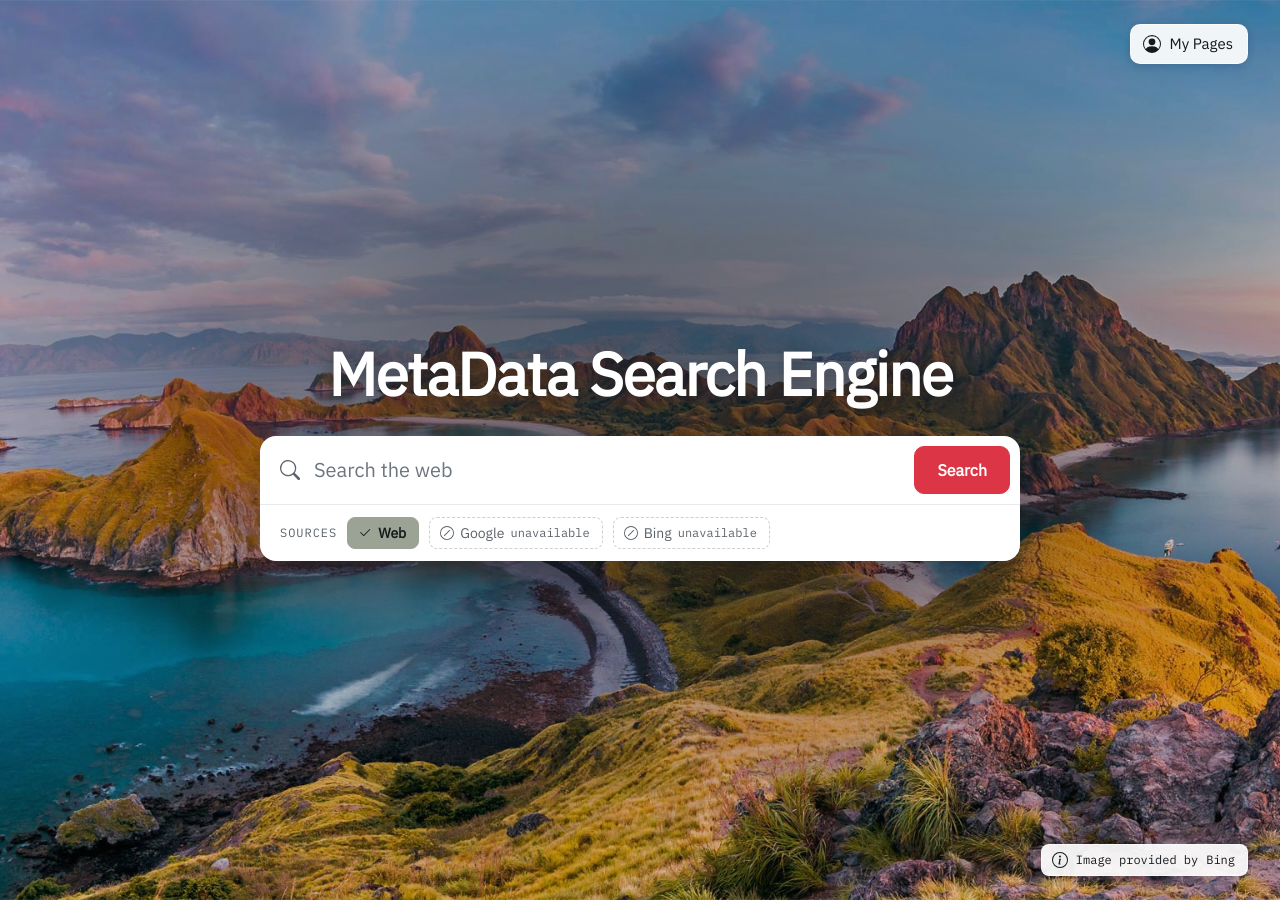
it: search › says when Tavily finds no pages
Type "zebra" into the field.
click(607, 470); type("zebra")  # box [314,446,900,494]
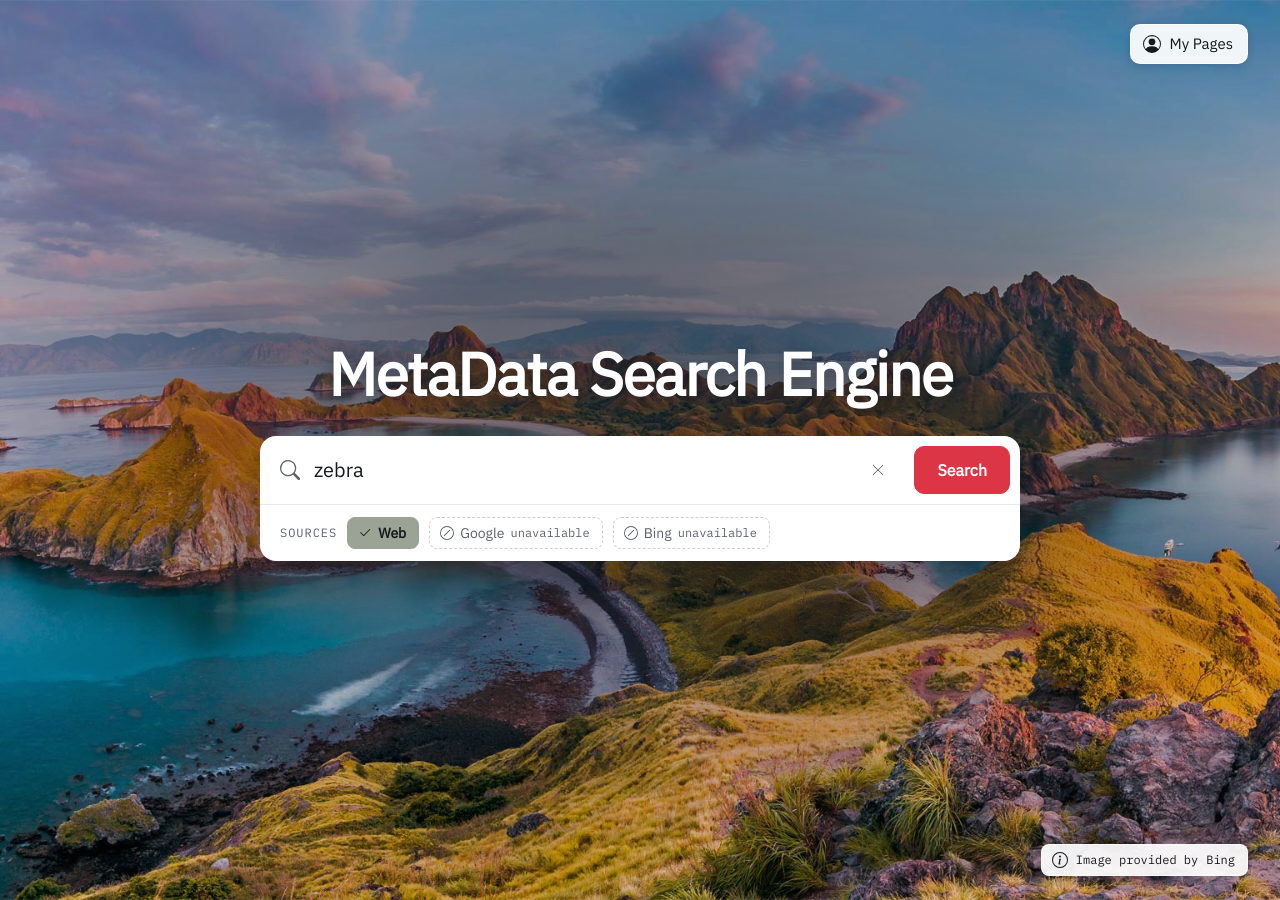
Click the button "Search".
click(962, 470)  # box [914,446,1010,494]
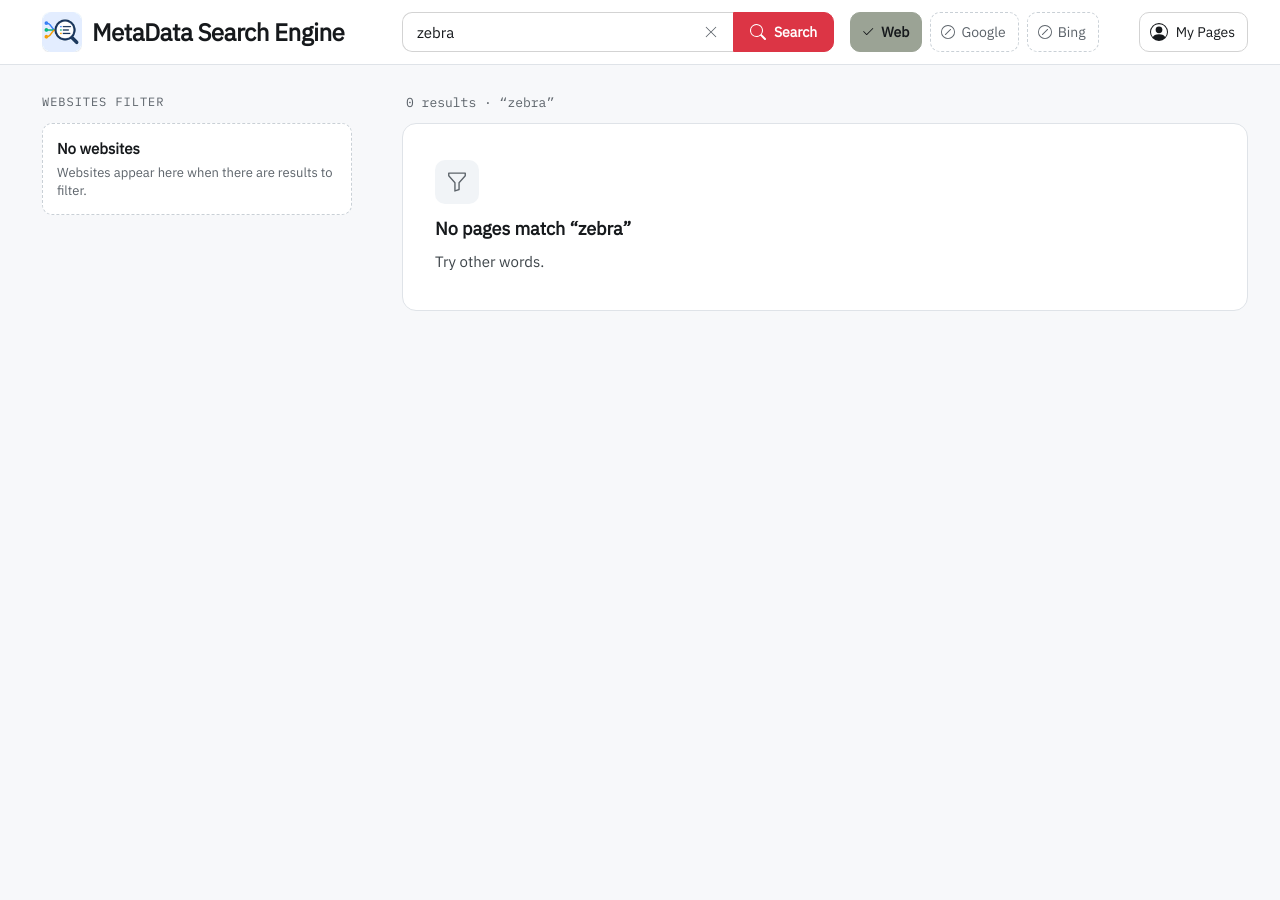
Now the heading "No pages match “zebra”" is shown, box [435,216,631,242]
